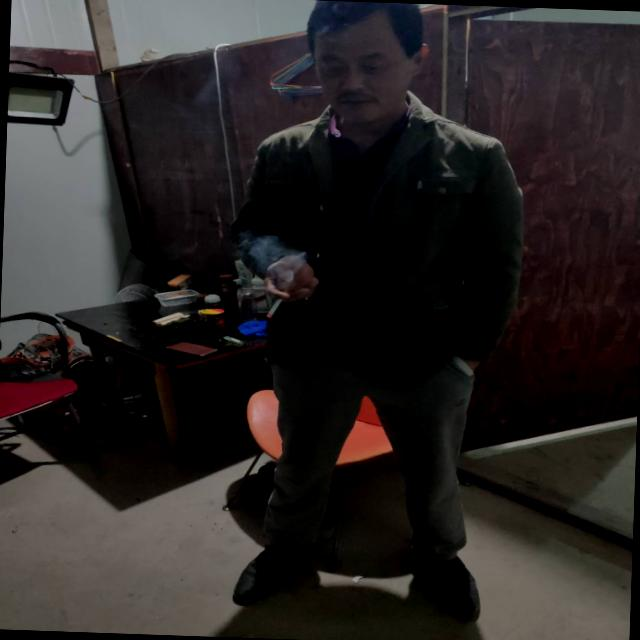smoke: (256, 276, 300, 324)
